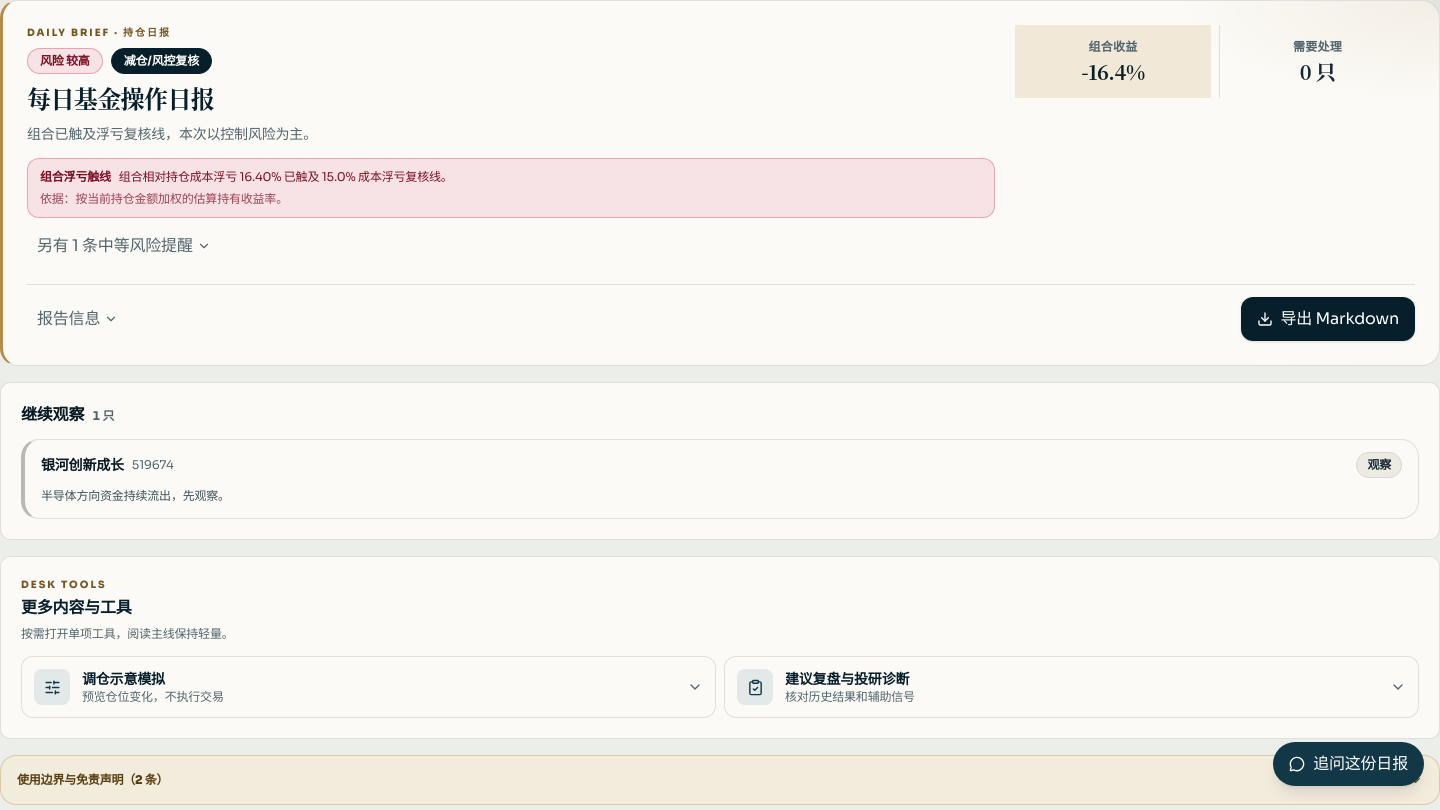
Test case: ReportPanel 方向退出判定 › 截图导入的持仓如实说明只能按绝对退出线判定，并标注阈值未回测
The width and height of the screenshot is (1440, 810).
Click the button with aria-label "展开 银河创新成长": (82, 465) [25,440,1418,518]
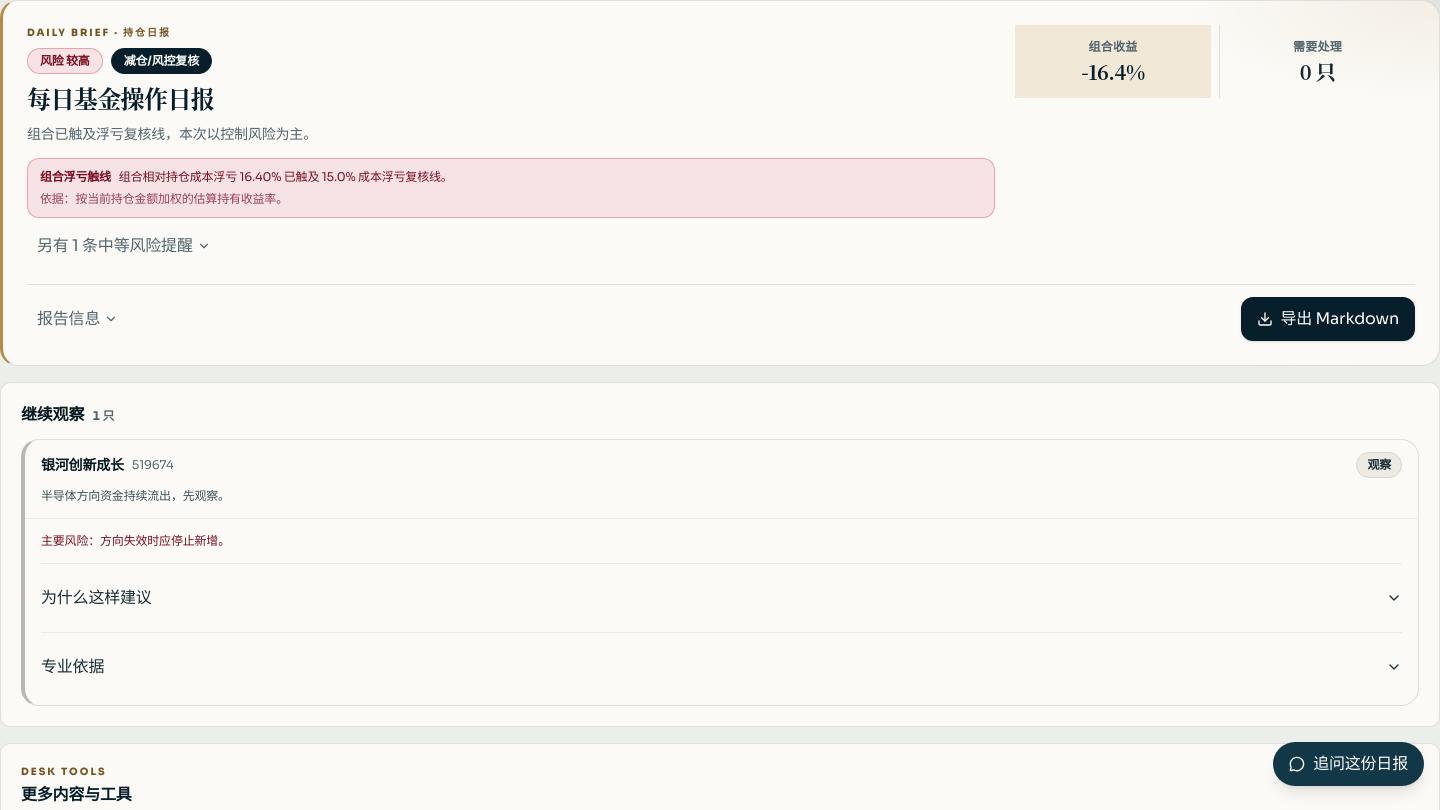
Click the button "专业依据": (73, 666) [41,645,1402,689]
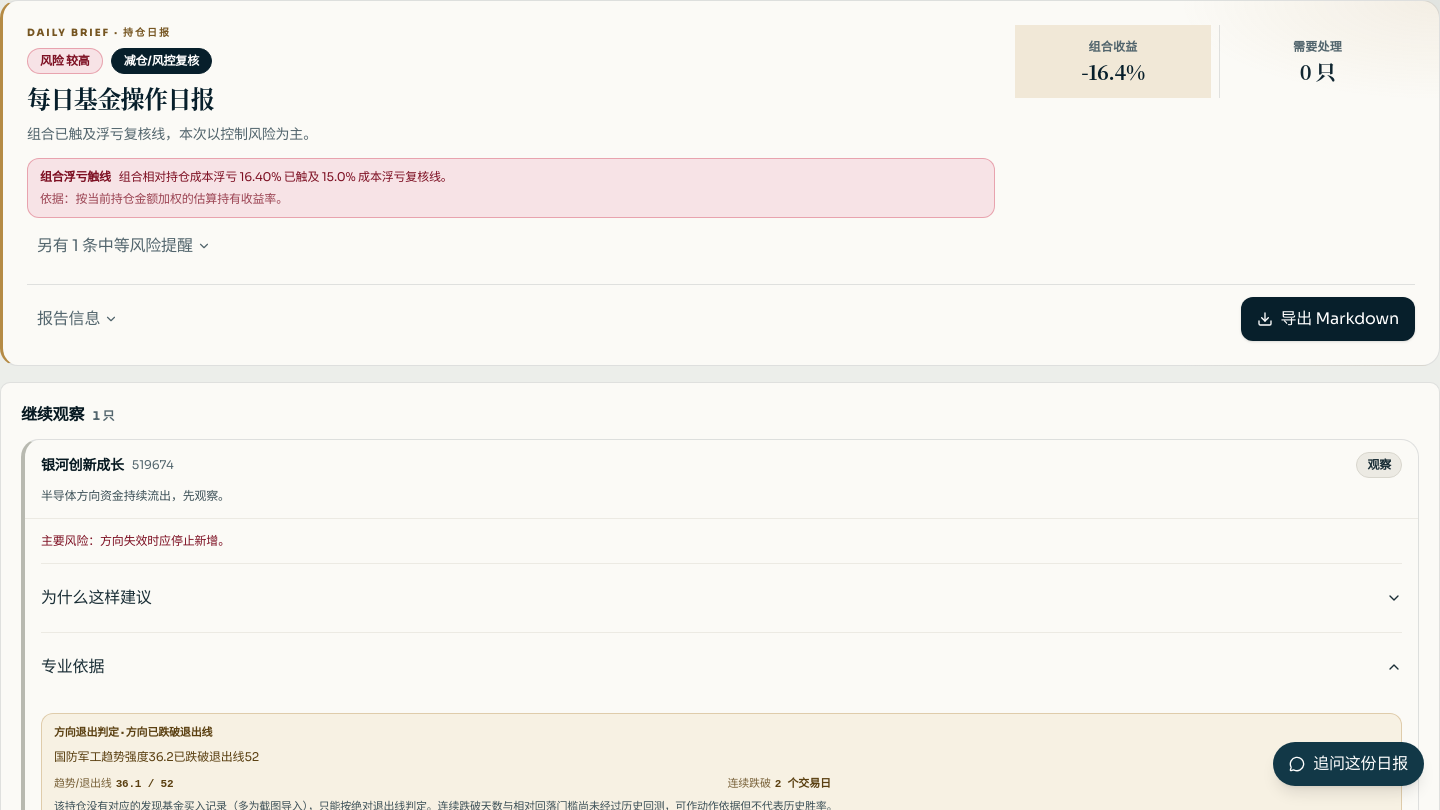
Now the list item "国防军工趋势强度36.2已跌破退出线52" is shown, box [54,748,259,764]
